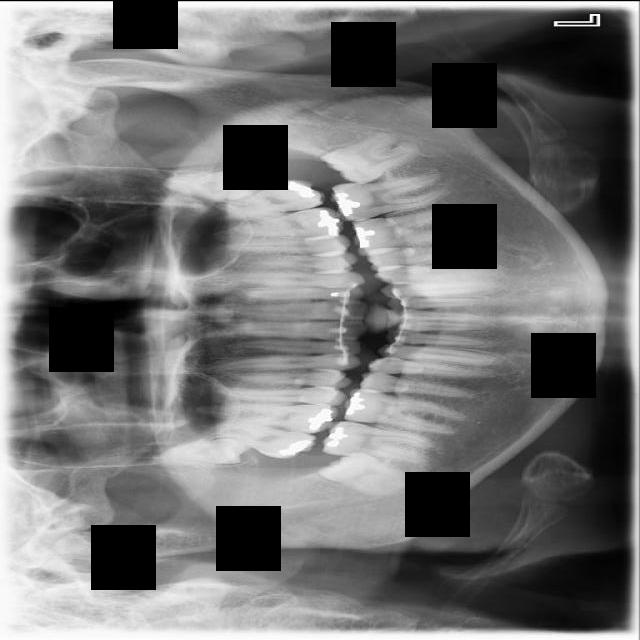3M ESPE Implant: (154, 437, 250, 466)
52: (347, 207, 409, 260), (338, 382, 394, 430), (326, 178, 387, 222), (253, 424, 319, 464), (261, 175, 326, 214), (319, 416, 374, 460), (290, 203, 346, 244), (276, 402, 340, 434)
BioHorizons Implant: (212, 175, 326, 220)
BioLife Implant: (161, 169, 258, 200)
Biomet 3i Implant: (317, 117, 425, 196)
Blue Sky Bio Implant: (326, 169, 455, 224)
Caries: (206, 417, 319, 463)
Implant: (318, 417, 439, 466)
Keystone Dental Implant: (316, 438, 413, 509)
